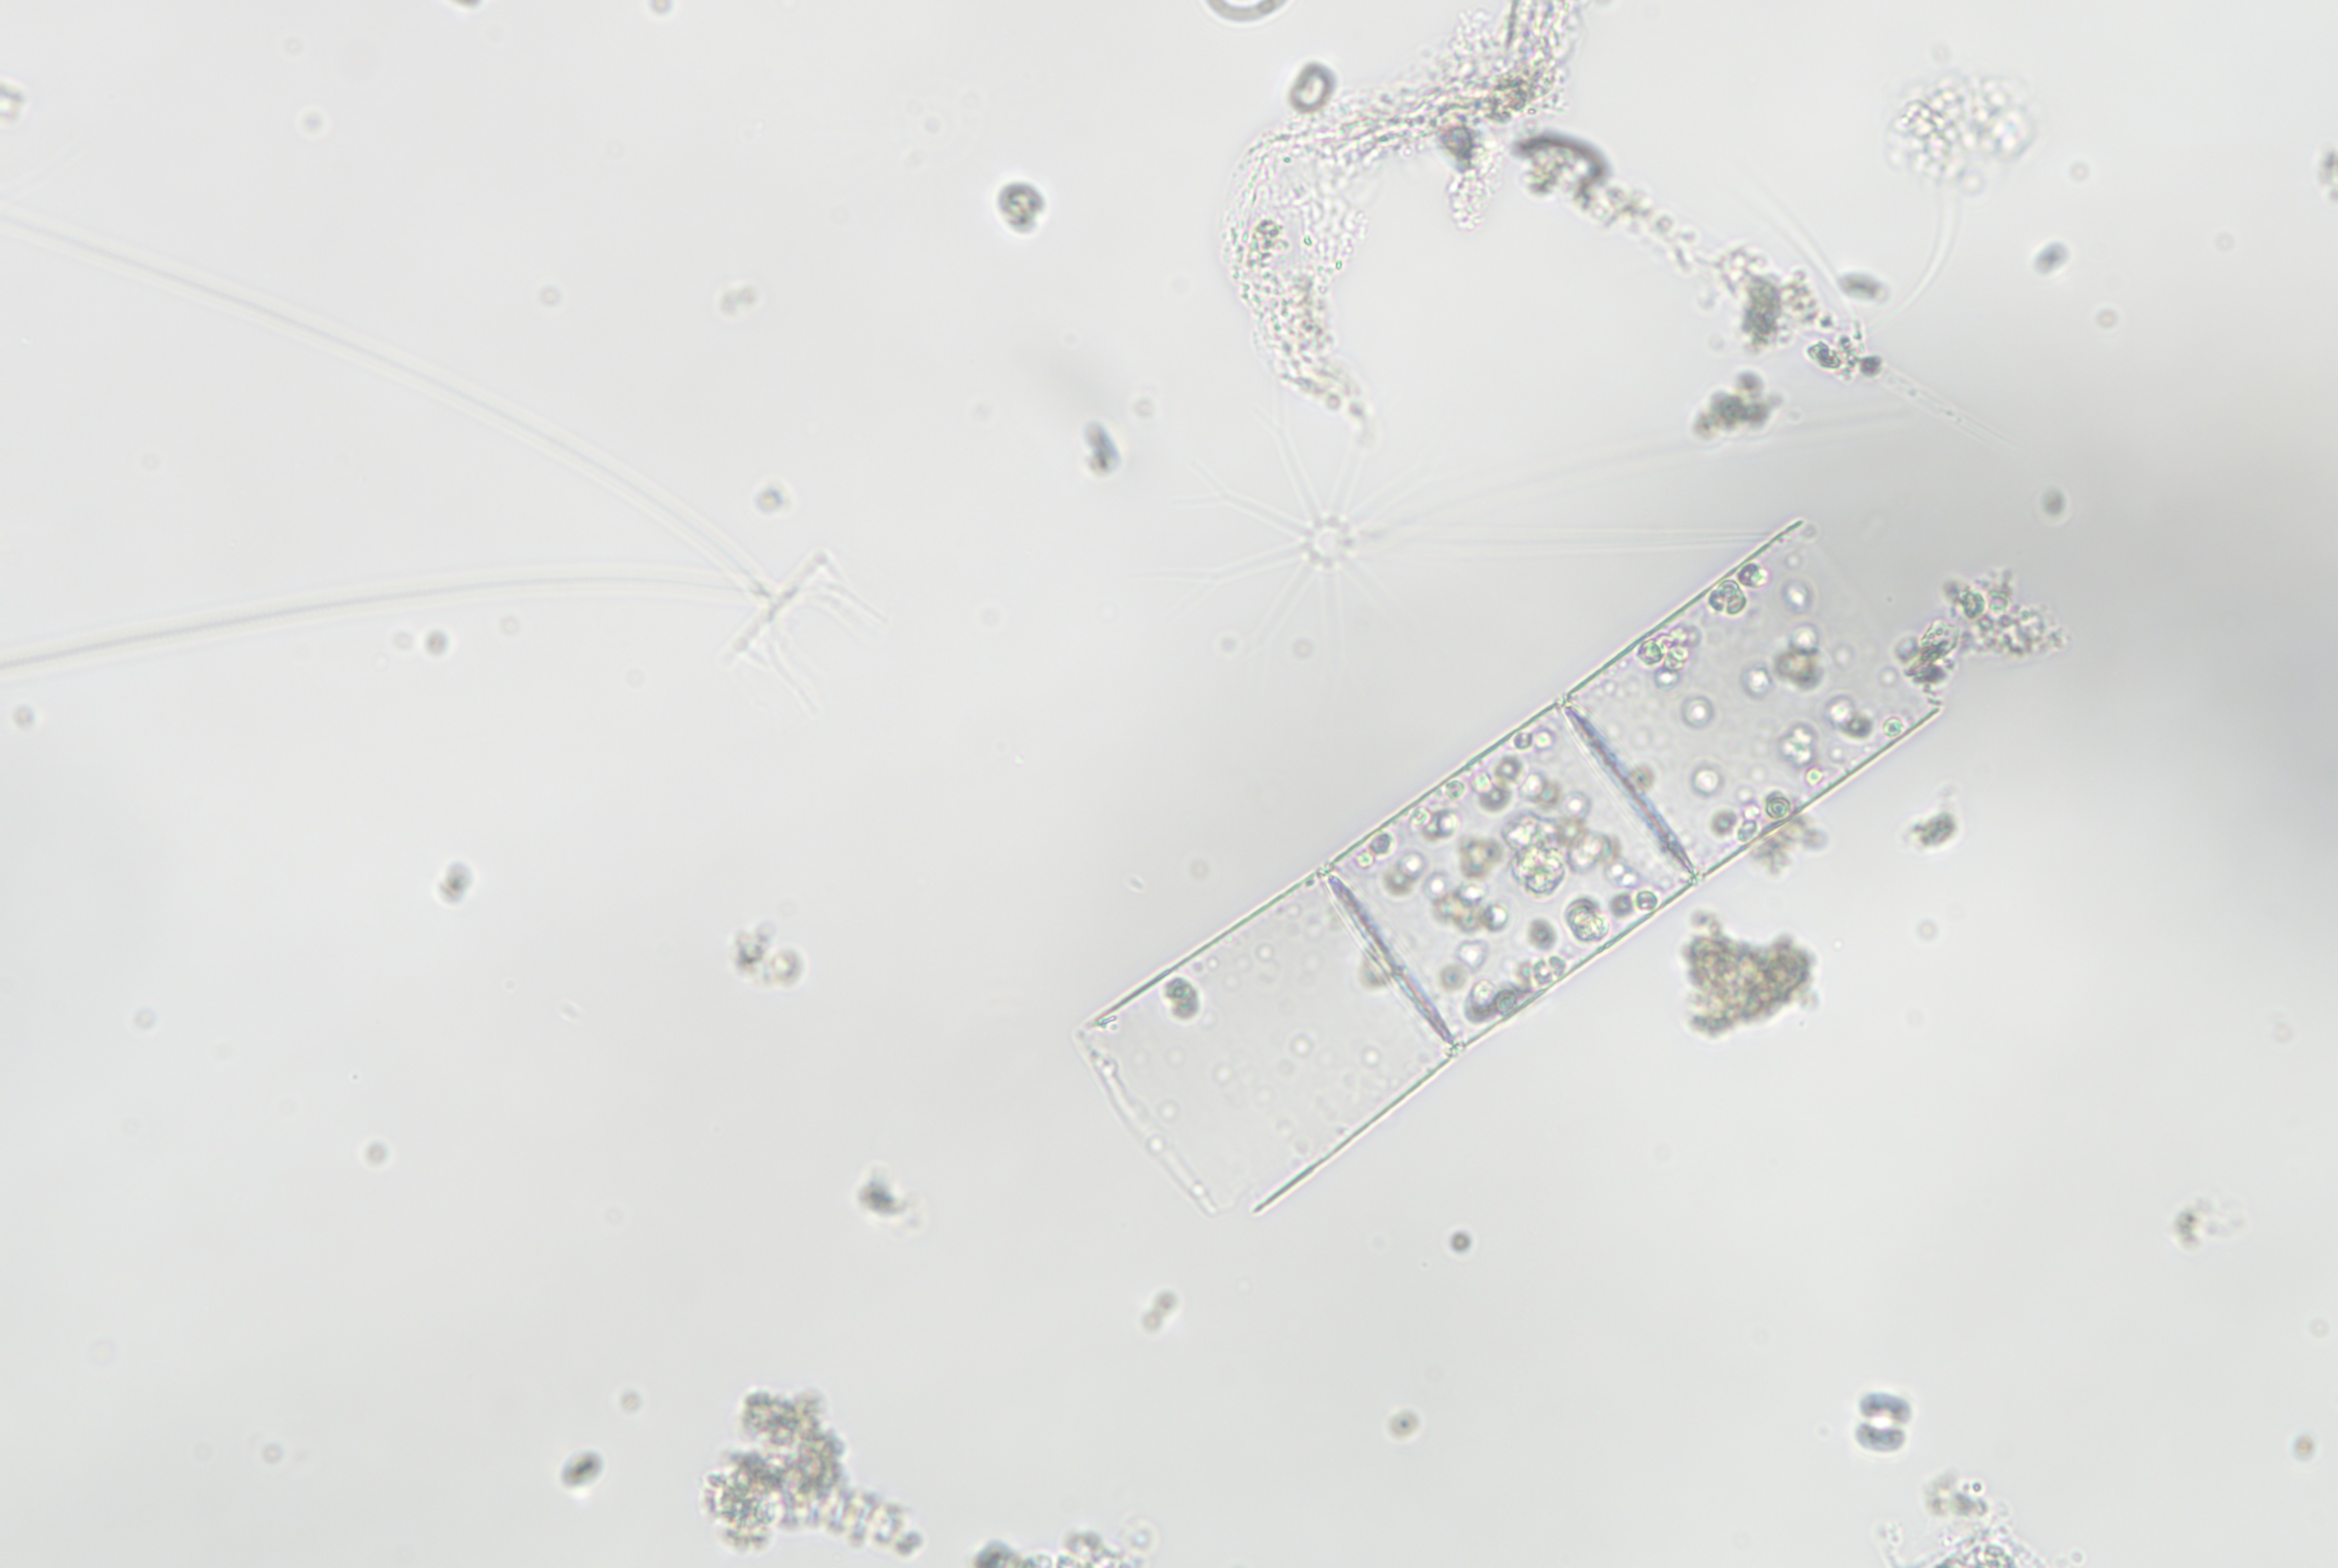bacteriastrum: (1176, 378, 1467, 679)
guinardia flaccida: (1040, 465, 1972, 1234)
